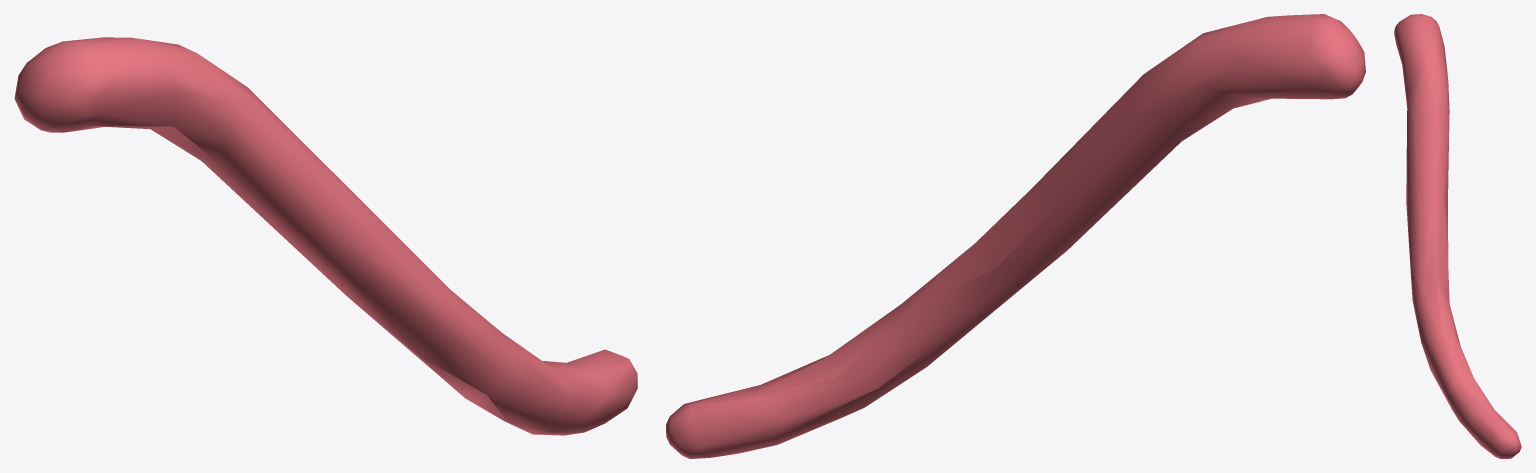
Rendered from fma86347_fj2049.glb.
3 renders of one model, left to right at view 1: azimuth 30°, elevation 25°; view 2: azimuth 150°, elevation 25°; view 3: azimuth 270°, elevation 25°, orthographic. The views are drawn at different scales.
Parts seen in each view (by area): view 1: FMA86347_FJ2049; view 2: FMA86347_FJ2049; view 3: FMA86347_FJ2049.
Part boxes in pixels (<box>): FMA86347_FJ2049: <box>14,37,637,435</box>; FMA86347_FJ2049: <box>666,14,1365,458</box>; FMA86347_FJ2049: <box>1394,14,1521,458</box>.
Size of the model in its own units: 0.0339 by 0.0271 by 0.0108.
